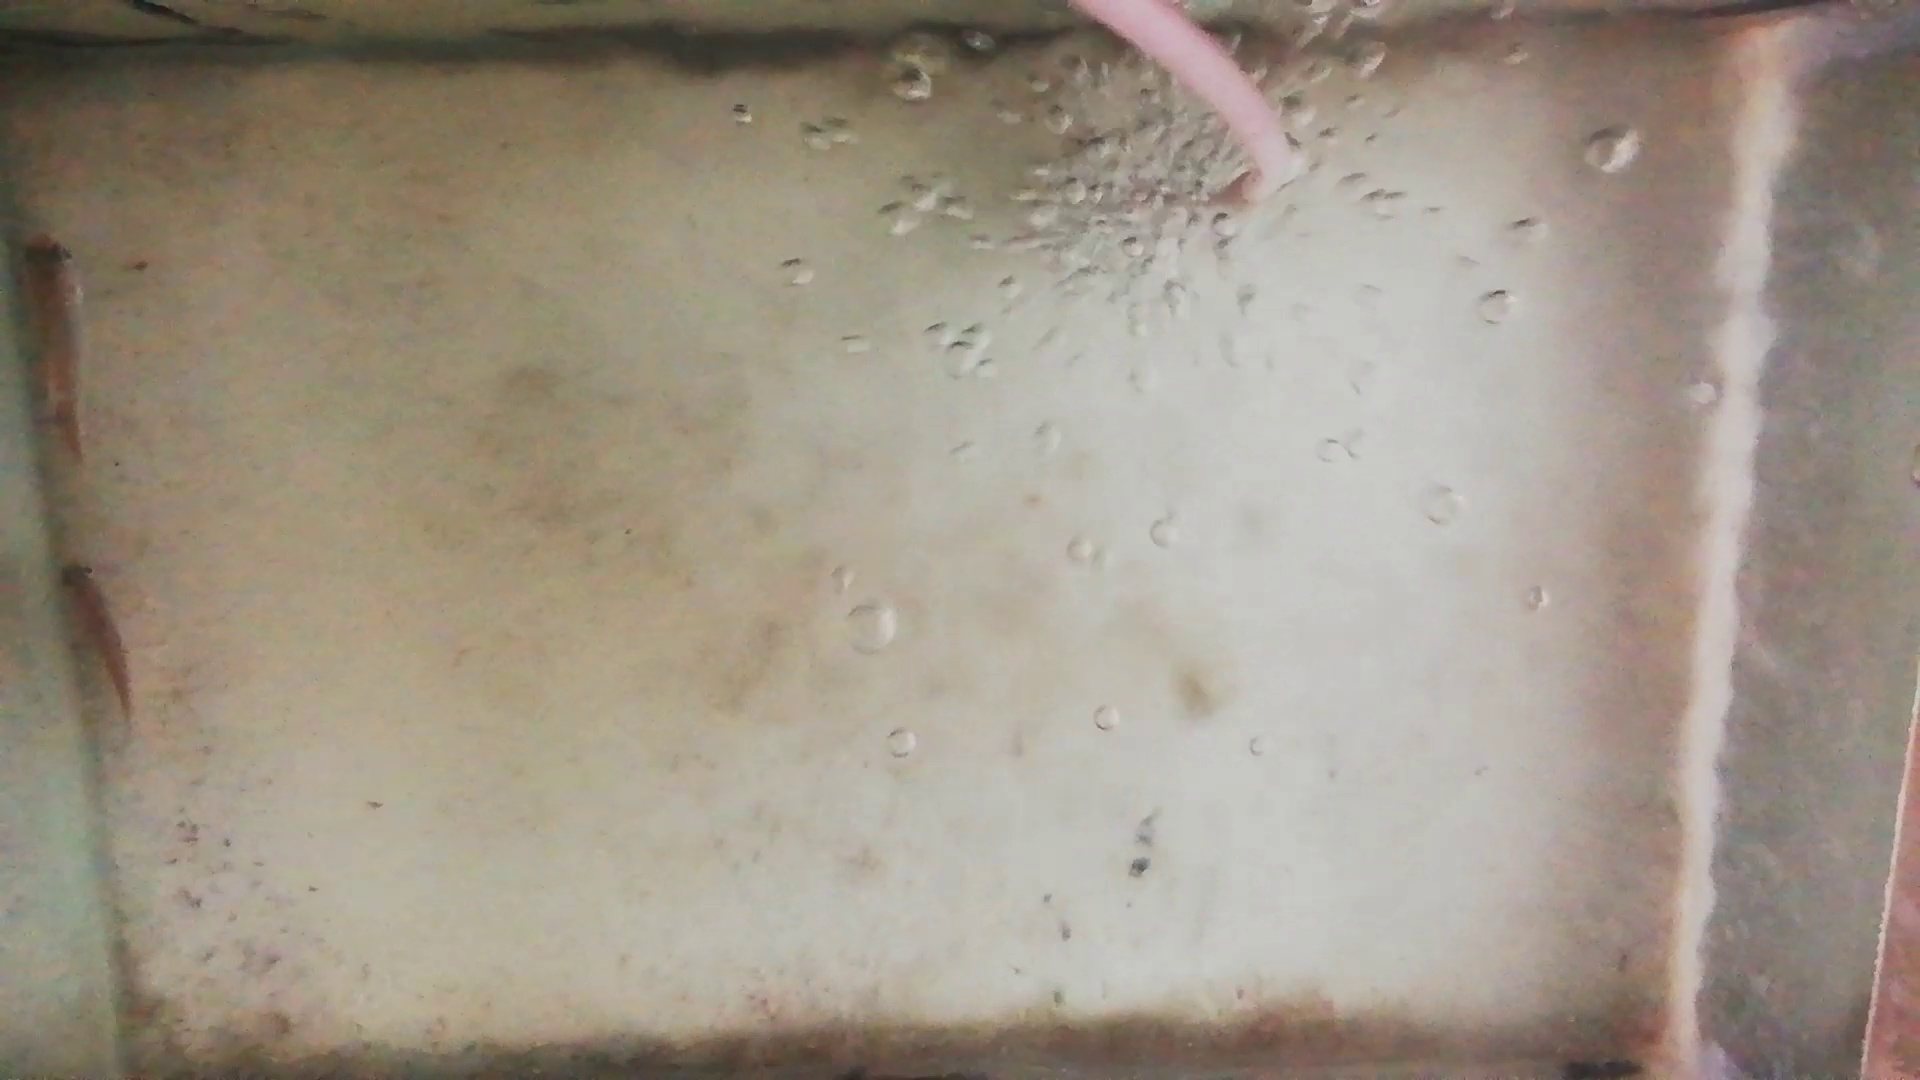fish: (26, 235, 87, 458), (55, 563, 135, 717)
